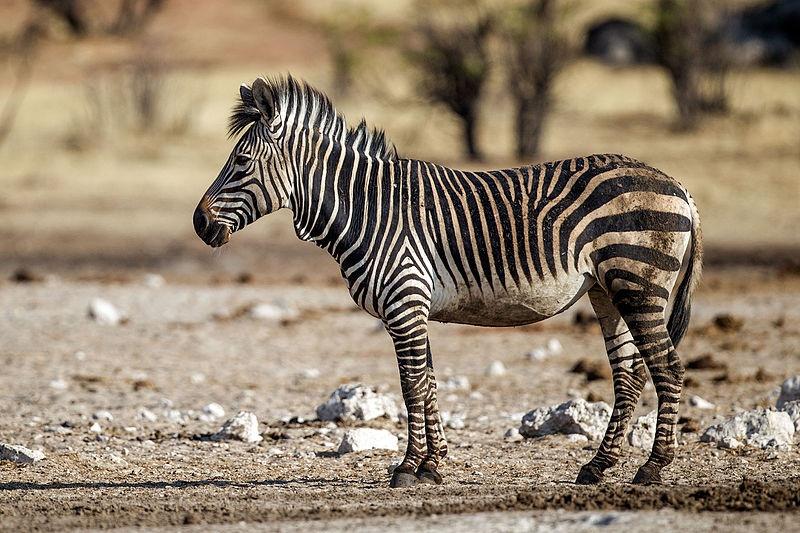zebra: (189, 69, 704, 490)
